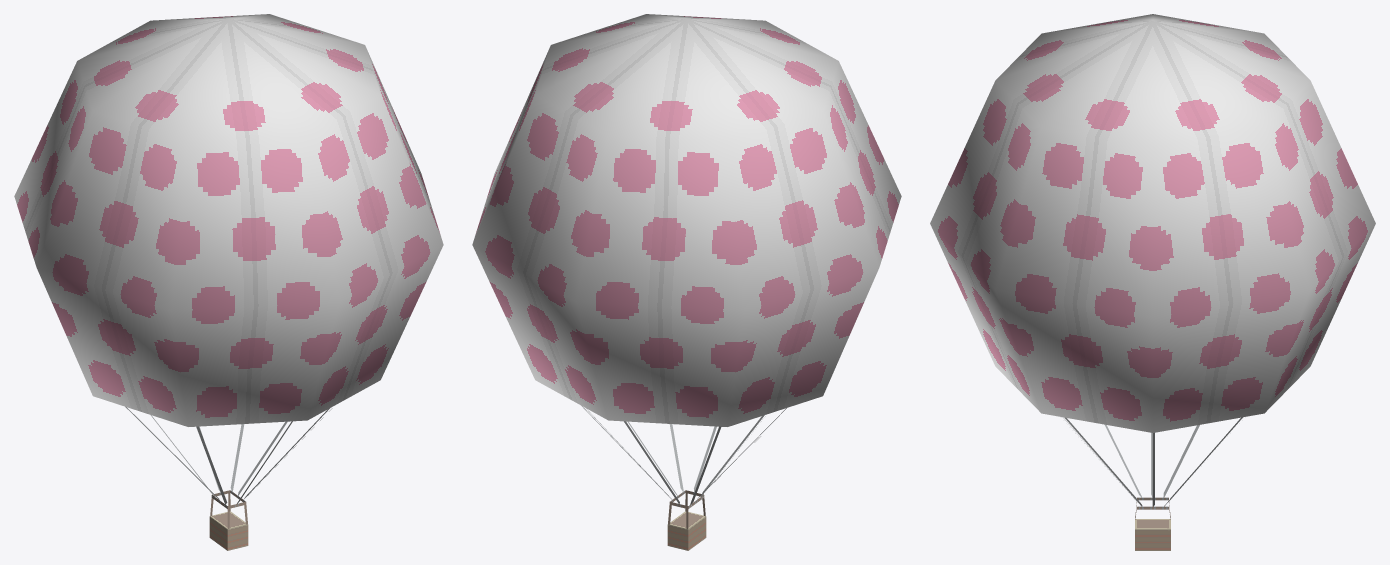
Rendered from 048f_Big_Hot_Air_Balloon.glb.
3 renders of one model, left to right at view 1: azimuth 30°, elevation 25°; view 2: azimuth 150°, elevation 25°; view 3: azimuth 270°, elevation 25°, orthographic.
Parts seen in each view (by area): view 1: part_0; view 2: part_0; view 3: part_0.
Boxes of the visible parts, x1,y1,x2,y2 form: part_0: (14, 14, 443, 550); part_0: (472, 14, 901, 550); part_0: (930, 14, 1375, 550).
Bounding box in the file's own units: 23.09 × 29.96 × 23.09.
1 material, 1 textured.
